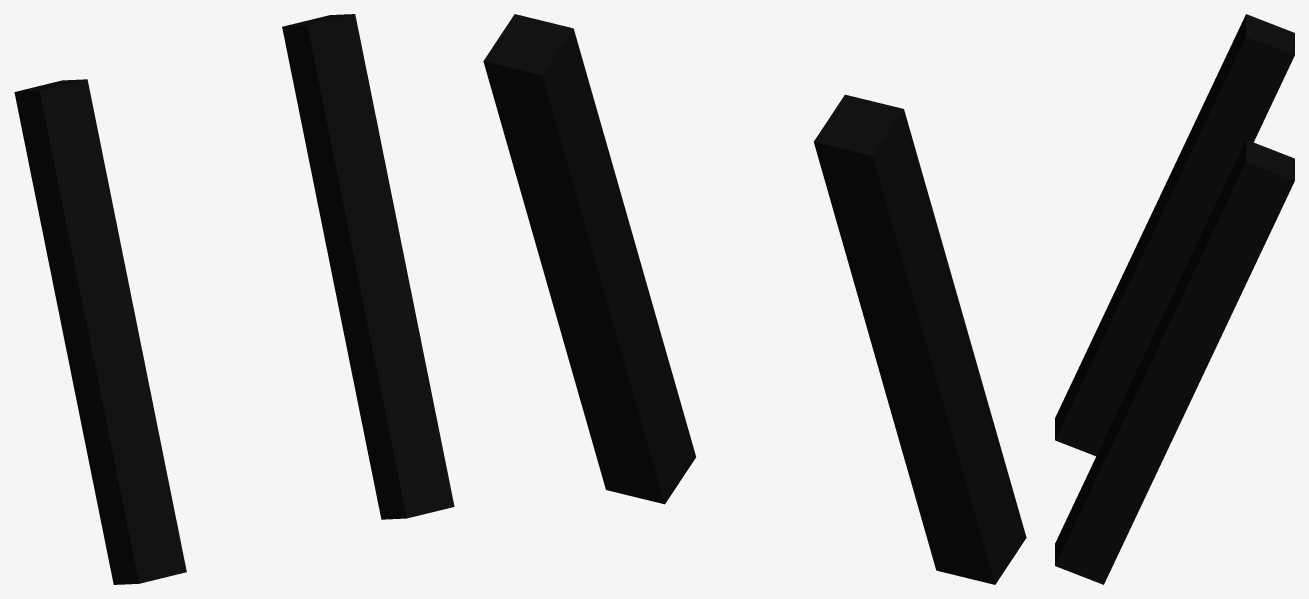
File: Cockpit_Transport__Throttle.obj
The picture shows the model from 3 angles, left to right: view 1: azimuth 30°, elevation 25°; view 2: azimuth 150°, elevation 25°; view 3: azimuth 270°, elevation 25°; orthographic projection. The views are drawn at different scales.
Parts seen in each view (by area): view 1: Engine_lever, Engine_lever.001; view 2: Engine_lever, Engine_lever.001; view 3: Engine_lever.001, Engine_lever.
Part boxes in pixels (bbox=[...]): Engine_lever: bbox=[14, 79, 186, 584]; Engine_lever.001: bbox=[282, 14, 454, 519]; Engine_lever: bbox=[814, 94, 1026, 584]; Engine_lever.001: bbox=[483, 14, 695, 504]; Engine_lever.001: bbox=[1055, 139, 1294, 584]; Engine_lever: bbox=[1055, 14, 1294, 455].
Bounding box in the file's own units: 0.165 × 0.2198 × 0.113.
